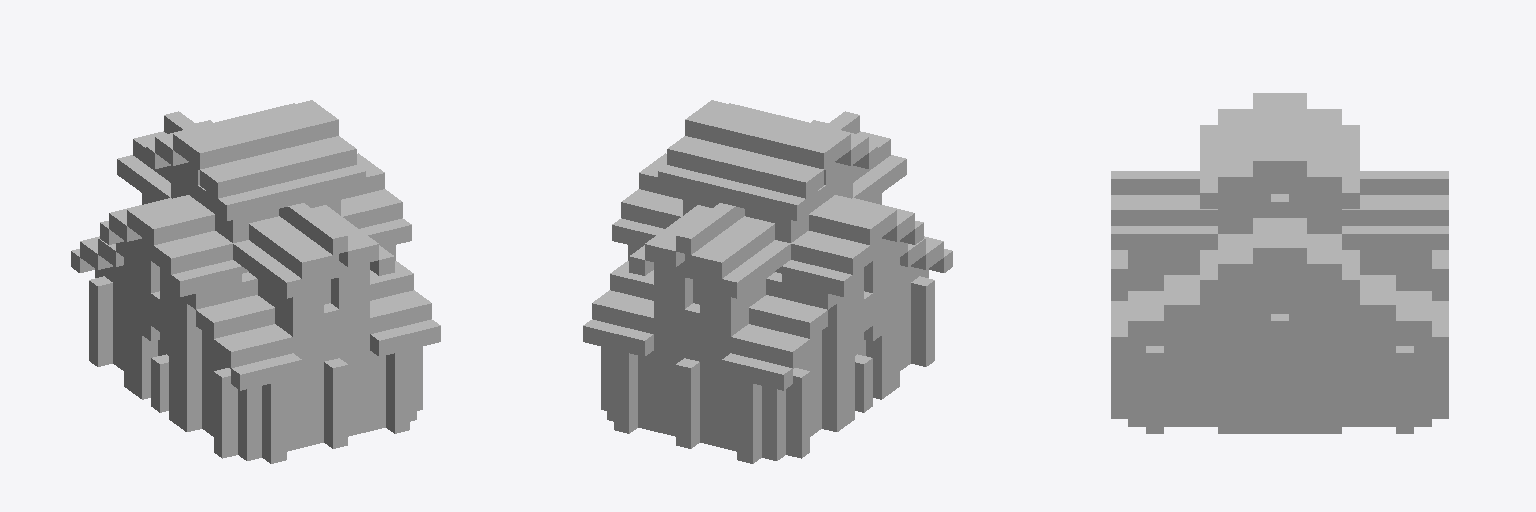
File: mesh_church_sanmigueldelilo_03.obj
The picture shows the model from 3 angles: view 1: azimuth 30°, elevation 25°; view 2: azimuth 150°, elevation 25°; view 3: azimuth 270°, elevation 25°; orthographic projection.
Bounding box in the file's own units: 0.4688 × 0.5 × 0.5938.